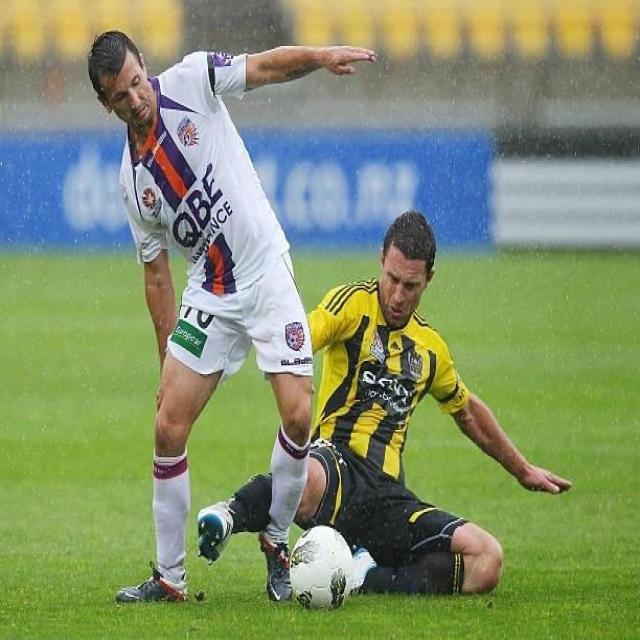ball: (286, 518, 362, 611)
player: (180, 207, 588, 587), (54, 17, 297, 604)
